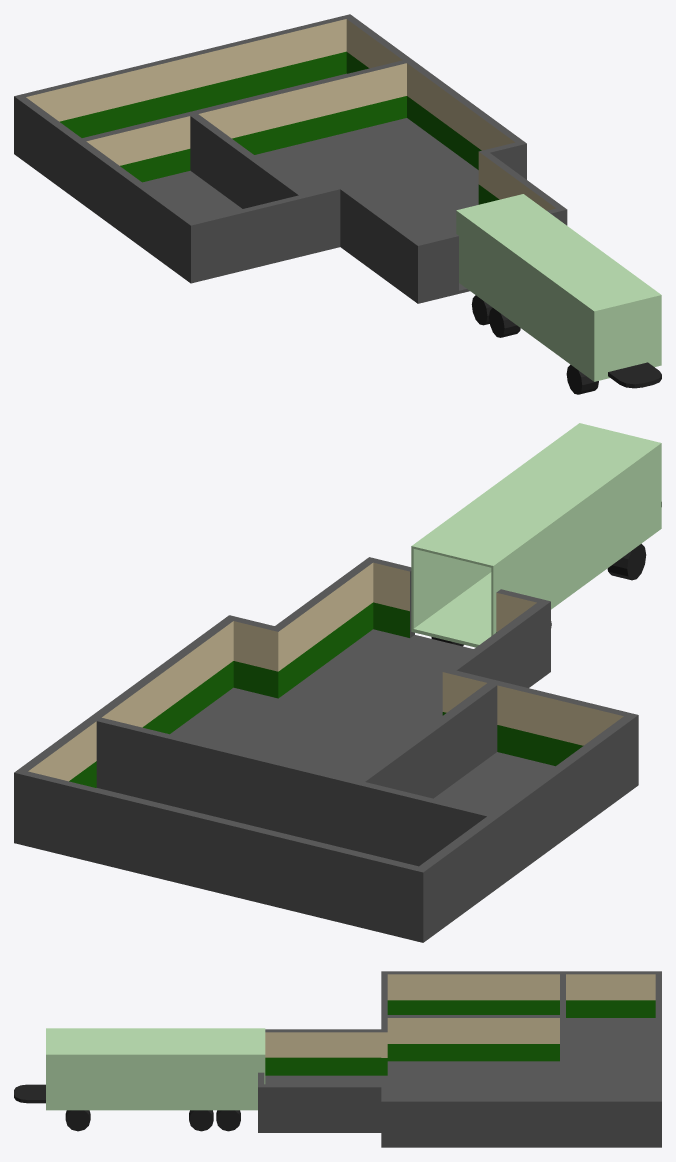
The model's file is LoadingArea.fbx.
3 renders of one model, top to bottom at view 1: azimuth 30°, elevation 25°; view 2: azimuth 150°, elevation 25°; view 3: azimuth 270°, elevation 25°, orthographic. The views are drawn at different scales.
Visible parts, largest first — view 1: AreaLvl_1, LoadingArea, AreaLvl_2, AreaLvl_3; view 2: LoadingArea, AreaLvl_1, AreaLvl_3, AreaLvl_2; view 3: LoadingArea, AreaLvl_1, AreaLvl_3, AreaLvl_2.
Part boxes in pixels (x1,y1,x2,y2): AreaLvl_1: [187, 58, 526, 255]; LoadingArea: [340, 153, 661, 394]; AreaLvl_2: [74, 69, 474, 283]; AreaLvl_3: [14, 14, 412, 199]; LoadingArea: [275, 423, 661, 729]; AreaLvl_1: [89, 615, 500, 851]; AreaLvl_3: [14, 715, 501, 942]; AreaLvl_2: [141, 668, 638, 888]; LoadingArea: [14, 1028, 381, 1132]; AreaLvl_1: [381, 1015, 565, 1147]; AreaLvl_3: [560, 971, 661, 1147]; AreaLvl_2: [381, 971, 565, 1098].
Size of the model in its own units: 45 by 94.65 by 12.43.
